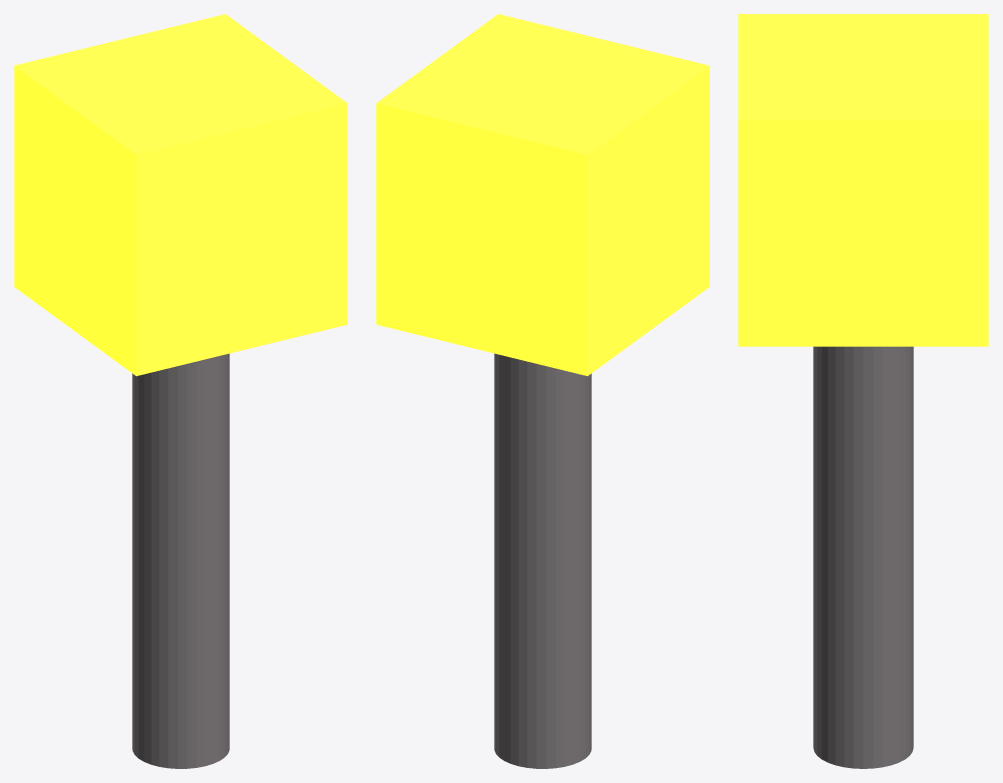
The model's file is emmision-test.glb.
The picture shows the model from 3 angles, left to right: view 1: azimuth 30°, elevation 25°; view 2: azimuth 150°, elevation 25°; view 3: azimuth 270°, elevation 25°; orthographic projection. The views are drawn at different scales.
Parts seen in each view (by area): view 1: 立方体, 円柱; view 2: 立方体, 円柱; view 3: 立方体, 円柱.
Boxes of the visible parts, x1=… form: 立方体: x1=14, y1=14, x2=347, y2=376; 円柱: x1=132, y1=353, x2=229, y2=768; 立方体: x1=376, y1=14, x2=709, y2=376; 円柱: x1=494, y1=353, x2=591, y2=768; 立方体: x1=738, y1=14, x2=988, y2=346; 円柱: x1=813, y1=346, x2=913, y2=768.
Size of the model in its own units: 1 by 3 by 1.
